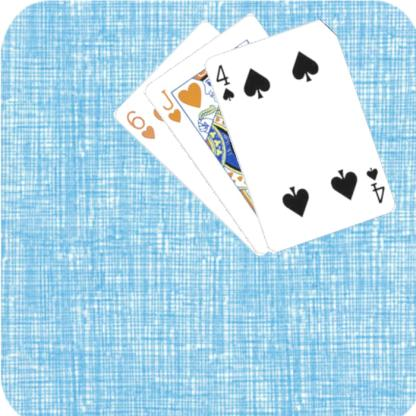4S: (212, 61, 236, 102), (362, 164, 386, 205)
6H: (122, 107, 156, 141)
JH: (158, 86, 182, 124)
